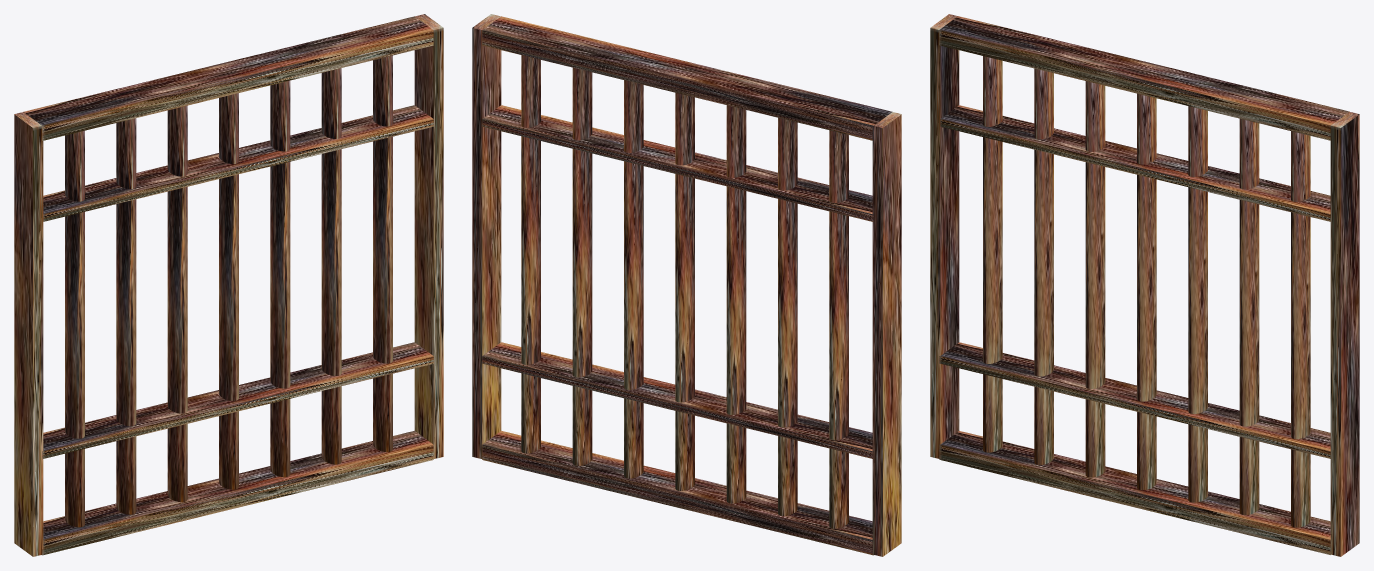
File: jail_bars.glb
3 views of the same model, side by side, from view 1: azimuth 30°, elevation 25°; view 2: azimuth 150°, elevation 25°; view 3: azimuth 330°, elevation 25° (orthographic).
Visible parts, largest first — view 1: Cube__0; view 2: Cube__0; view 3: Cube__0.
Boxes of the visible parts, x1,y1,x2,y2 form: Cube__0: [14, 14, 443, 556]; Cube__0: [472, 14, 901, 556]; Cube__0: [930, 14, 1359, 556].
Bounding box in the file's own units: 5 × 5 × 0.4.
Materials: 1 (1 with a texture image).
